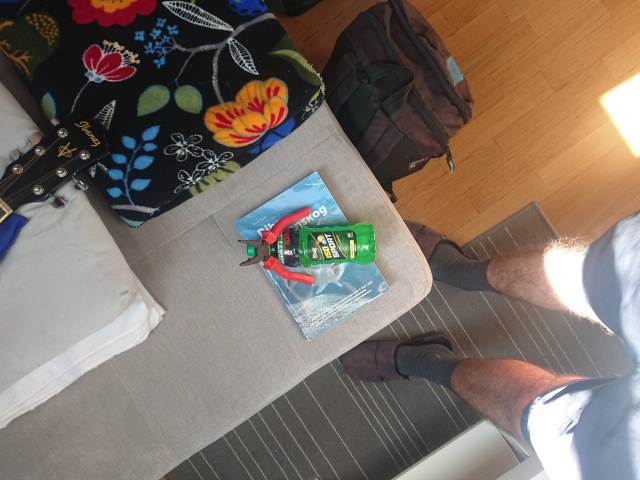Vindi Iso Sport Lemon-Grapefruit 500mL: (243, 220, 378, 270)
